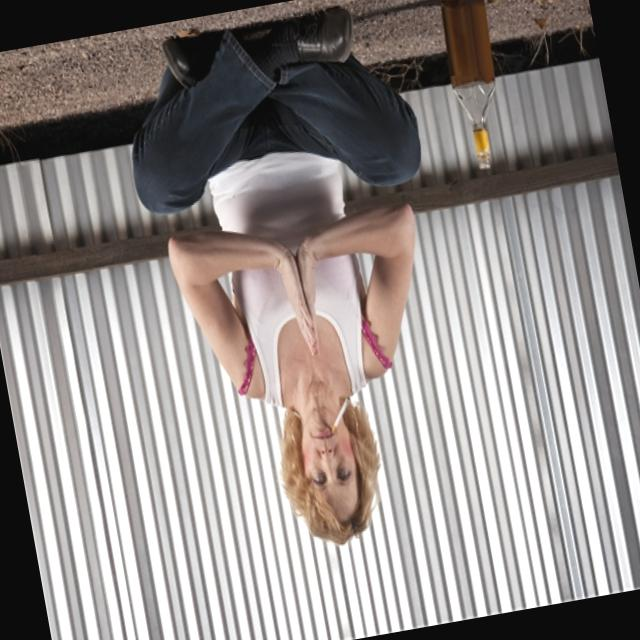cigarette: (326, 389, 356, 436)
